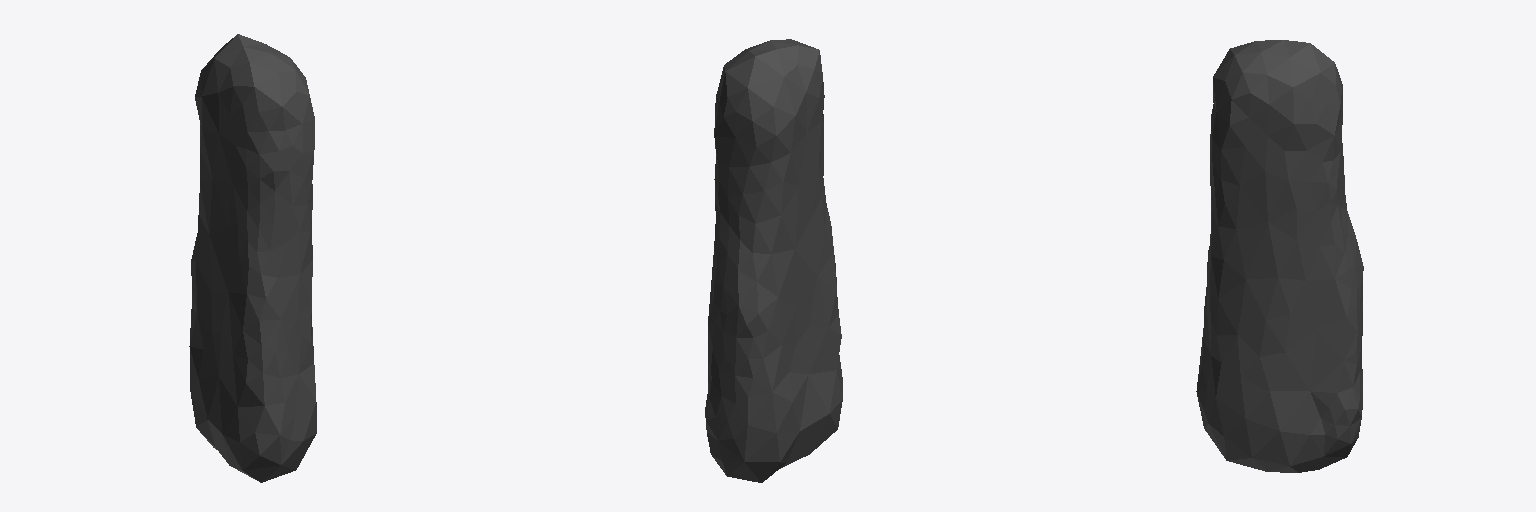
Rendered from Rock04_E.obj.
3 renders of one model, left to right at view 1: azimuth 30°, elevation 25°; view 2: azimuth 150°, elevation 25°; view 3: azimuth 270°, elevation 25°, orthographic.
Parts seen in each view (by area): view 1: Rock4E; view 2: Rock4E; view 3: Rock4E.
Boxes of the visible parts, box(x1,y1,x2,y2) form: Rock4E: box(189, 34, 316, 482); Rock4E: box(705, 39, 842, 482); Rock4E: box(1196, 40, 1363, 472).
Bounding box in the file's own units: 5.71 × 24.24 × 8.68.